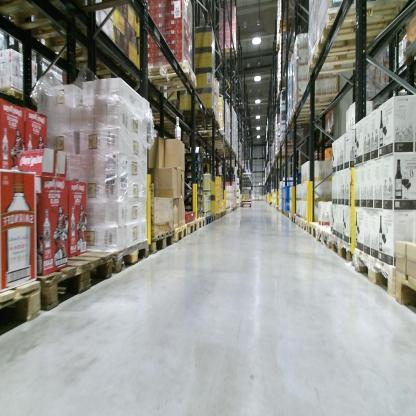pallets: (0, 239, 149, 335), (349, 245, 416, 316), (150, 214, 208, 260), (312, 225, 352, 265)
